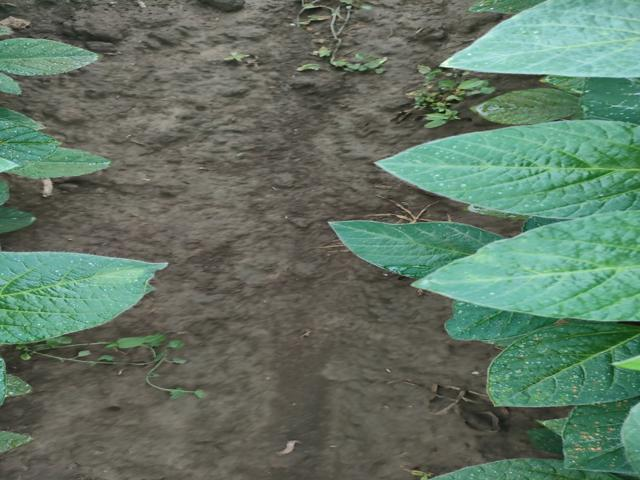bad weed: (94, 329, 209, 411), (270, 0, 376, 88), (403, 56, 490, 125)
